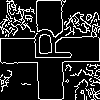R: (25, 25, 72, 62)
